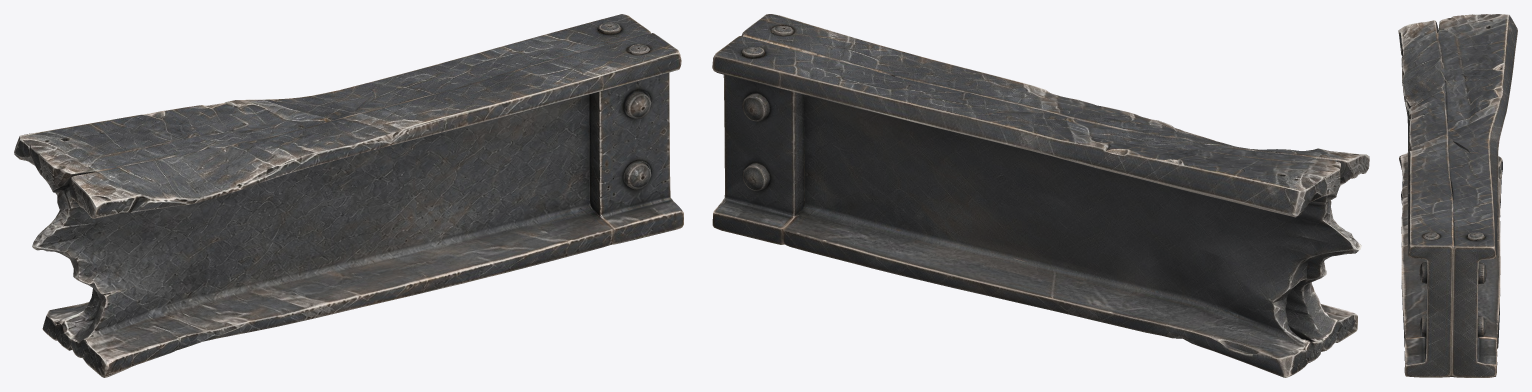
The model's file is shared_rubble_kit__girder_short_broken.glb.
3 views of the same model, side by side, from view 1: azimuth 30°, elevation 25°; view 2: azimuth 150°, elevation 25°; view 3: azimuth 270°, elevation 25° (orthographic). The views are drawn at different scales.
Visible parts, largest first — view 1: mesh_node; view 2: mesh_node; view 3: mesh_node.
Part boxes in pixels (box(x1,y1,x2,y2)): mesh_node: box(14, 14, 683, 377); mesh_node: box(712, 14, 1369, 377); mesh_node: box(1398, 14, 1517, 377).
Size of the model in its own units: 3.05 by 0.9158 by 0.6717.
Materials: 1 (1 with a texture image).
